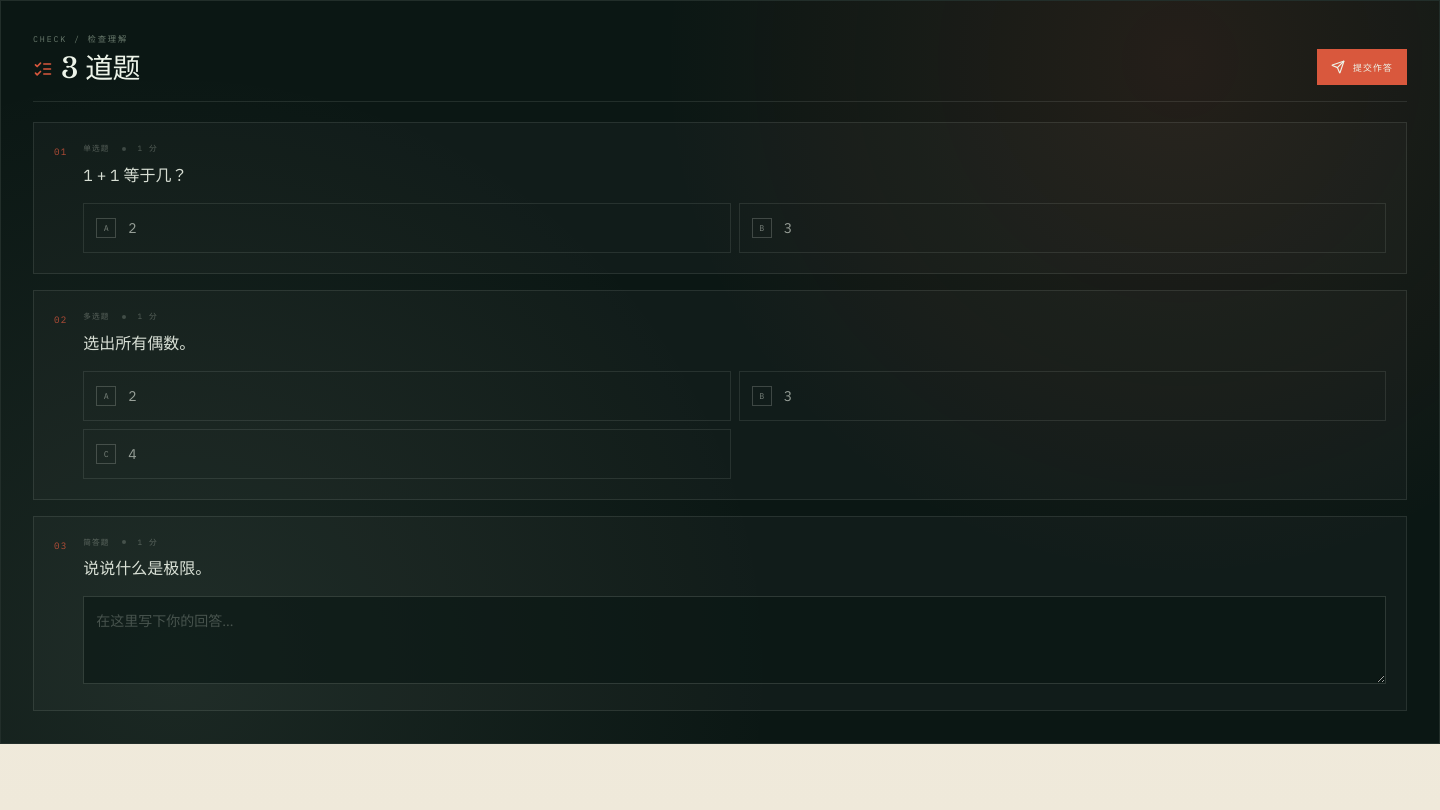
Test case: QuizStage › submits answers and renders per-question grading
Click the button "A 2" below "1 + 1 等于几？": coordinates (106, 228) [83, 203, 731, 253]
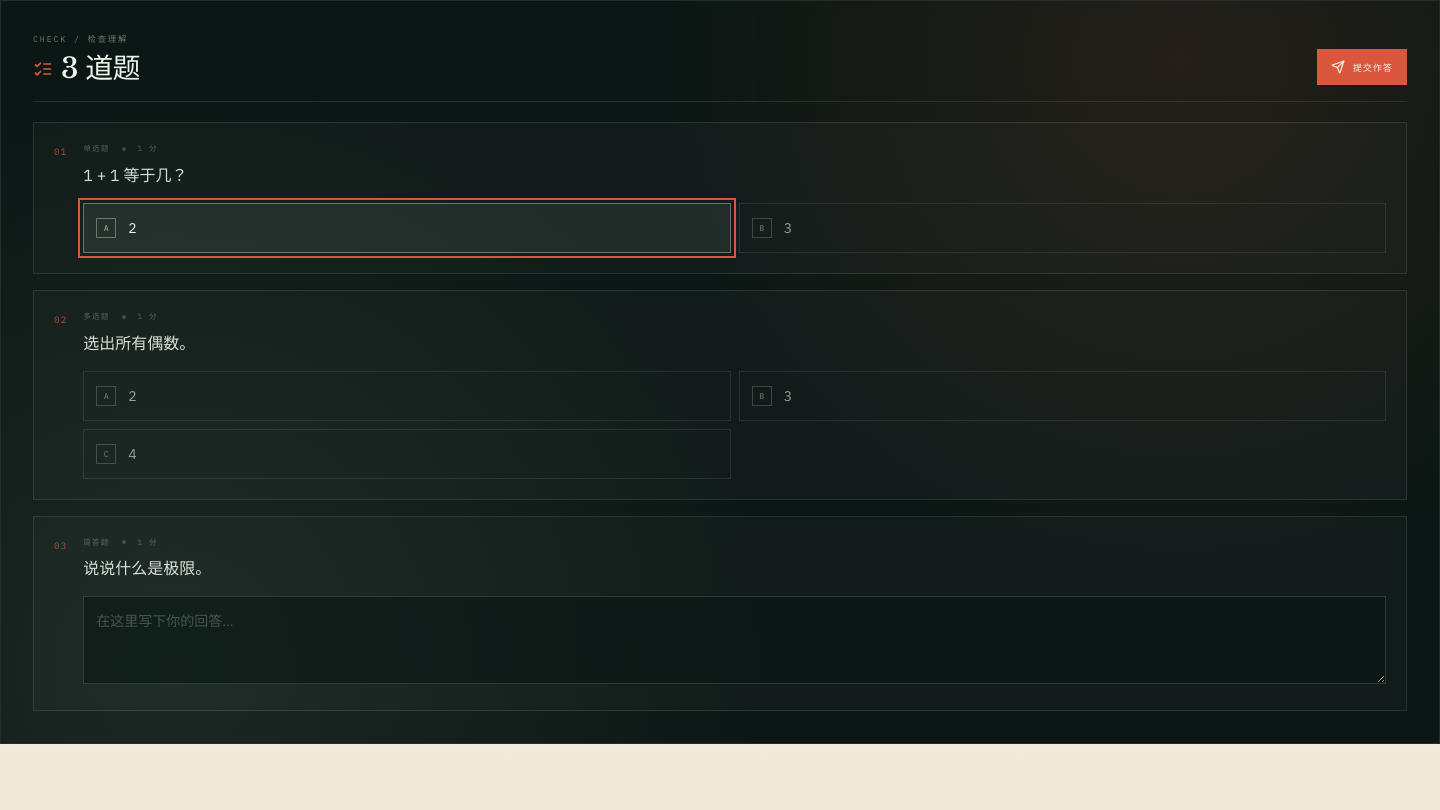
Click the button "A 2" below "选出所有偶数。": coordinates (106, 396) [83, 370, 731, 420]
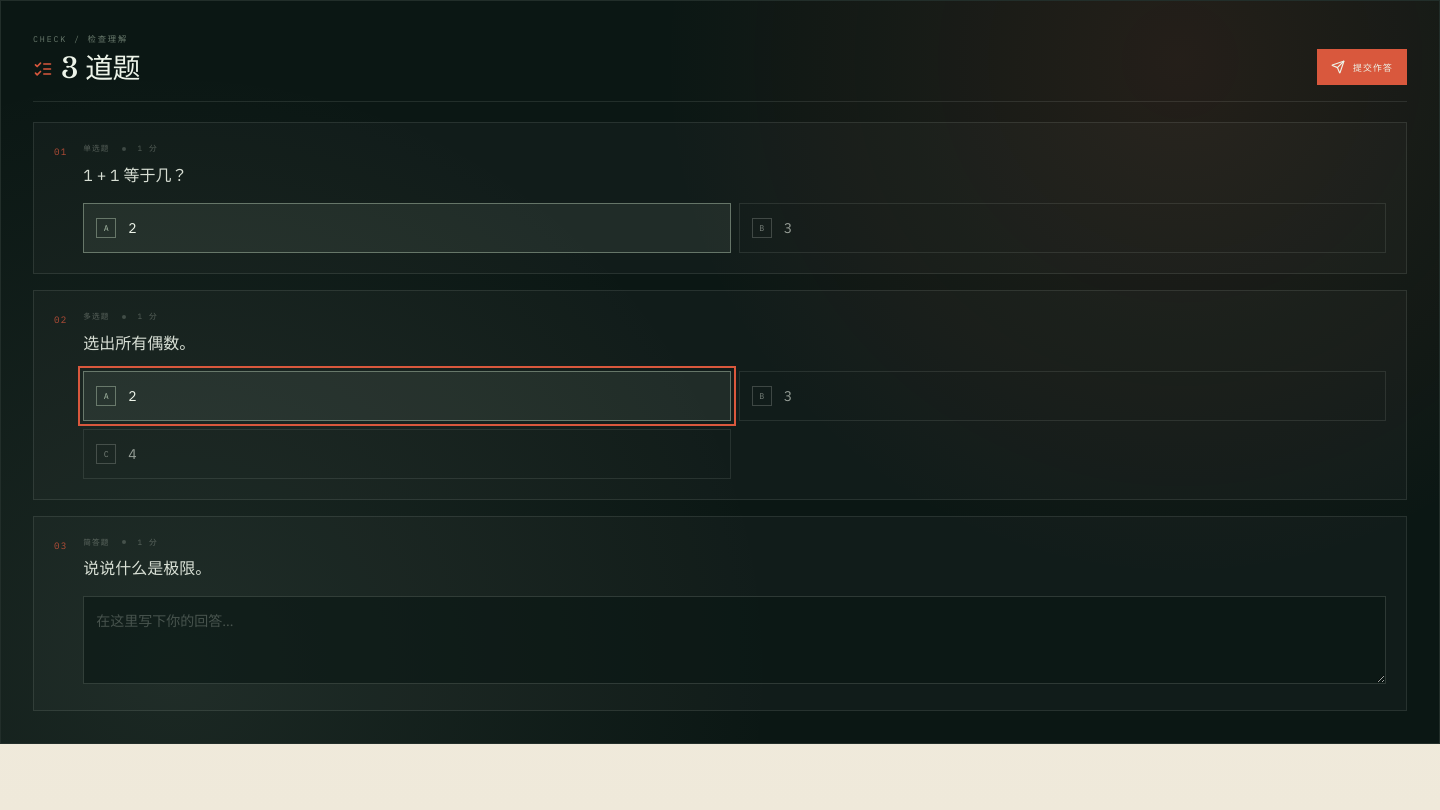
Click the 2nd button "B 3": coordinates (762, 396) [739, 370, 1386, 420]
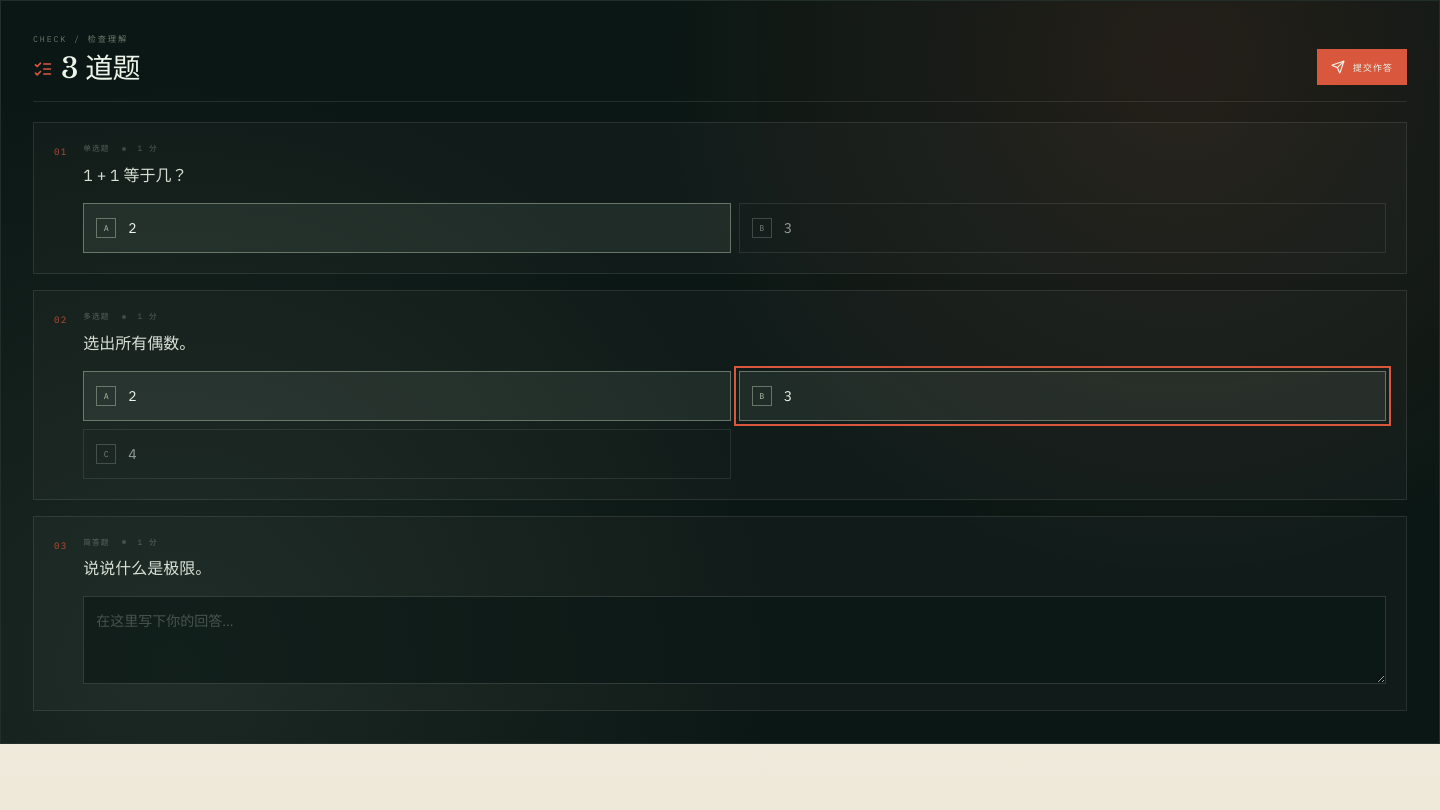
In the text box named "第 3 题回答": coordinates (735, 640) [83, 596, 1386, 684], type "无限接近一个确定的值"
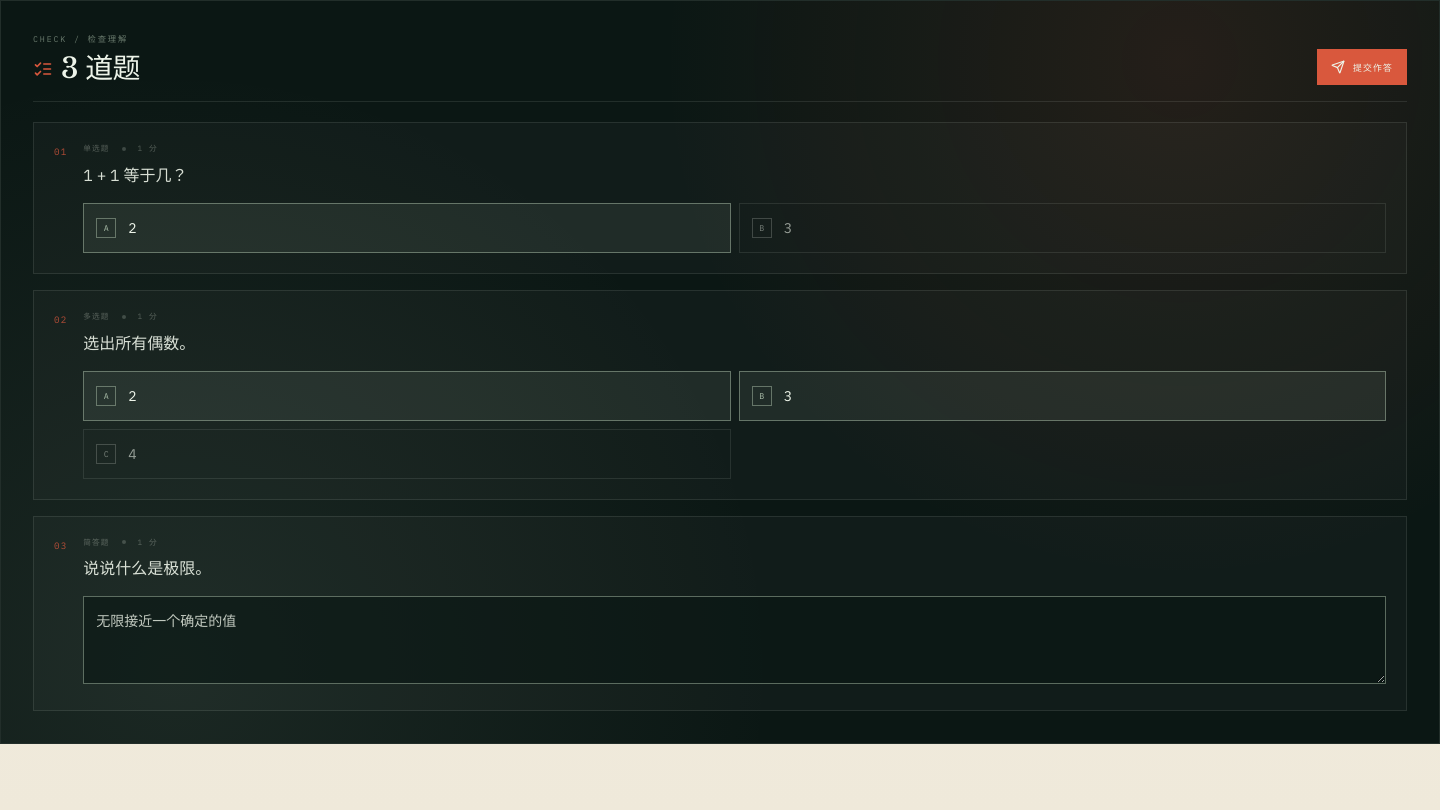
Click the button "提交作答": coordinates (1362, 68) [1317, 50, 1407, 86]
(page scrolled)
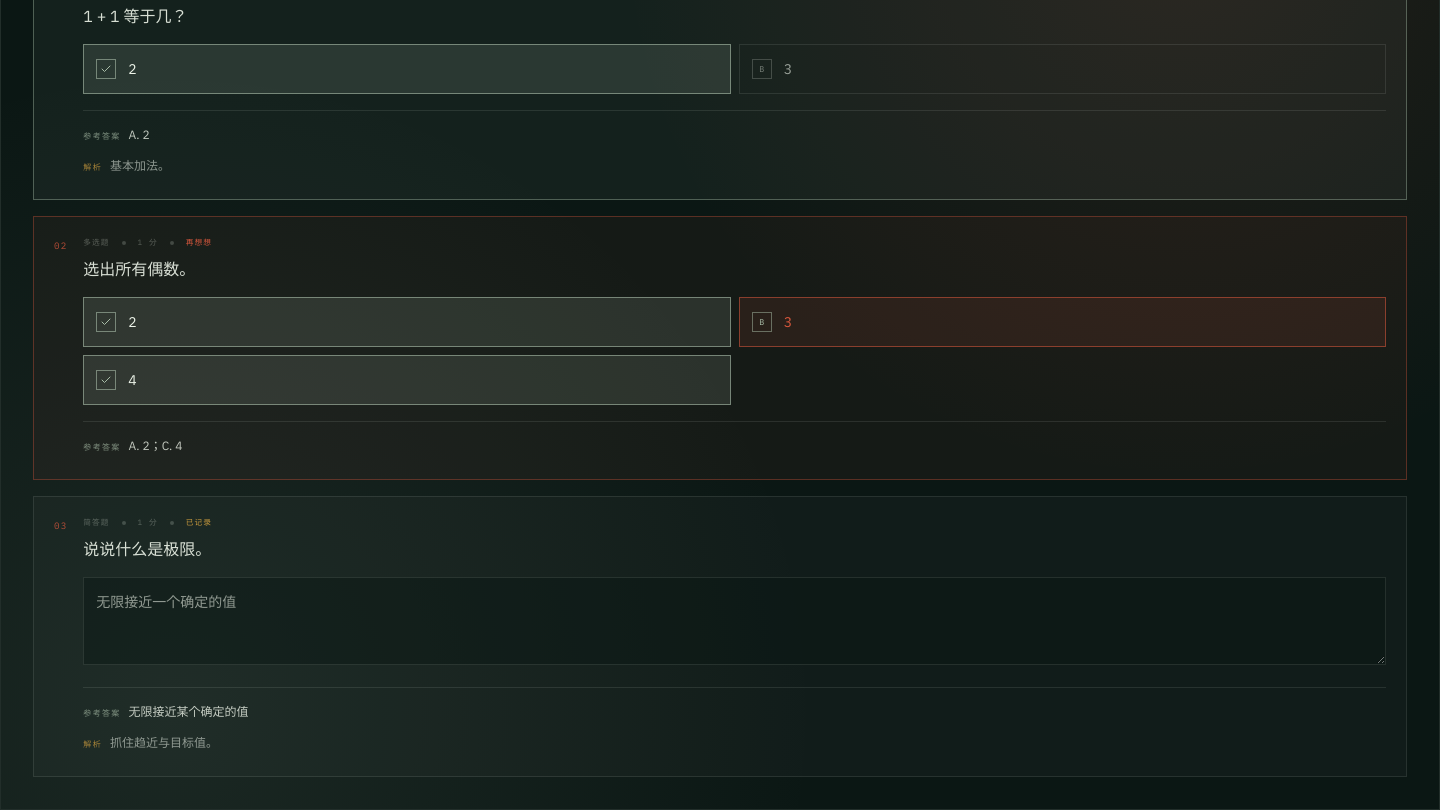
Result: the text "再想想" is shown at [186, 238, 212, 249]
Result: the text "已记录" is shown at [186, 517, 212, 528]
Result: the text "A. 2；C. 4" is shown at [128, 438, 182, 453]
